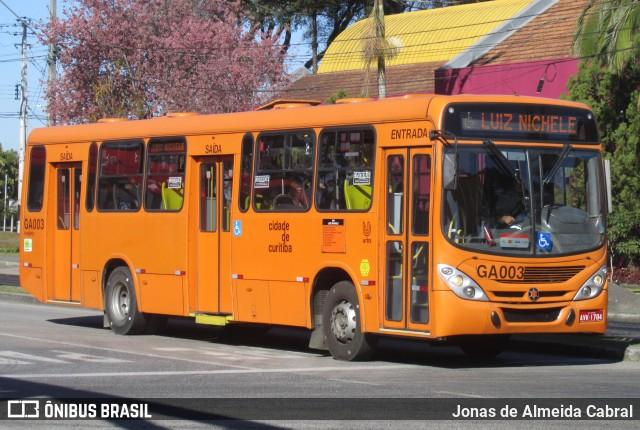LUIZ NICHELE: (478, 108, 580, 139)
